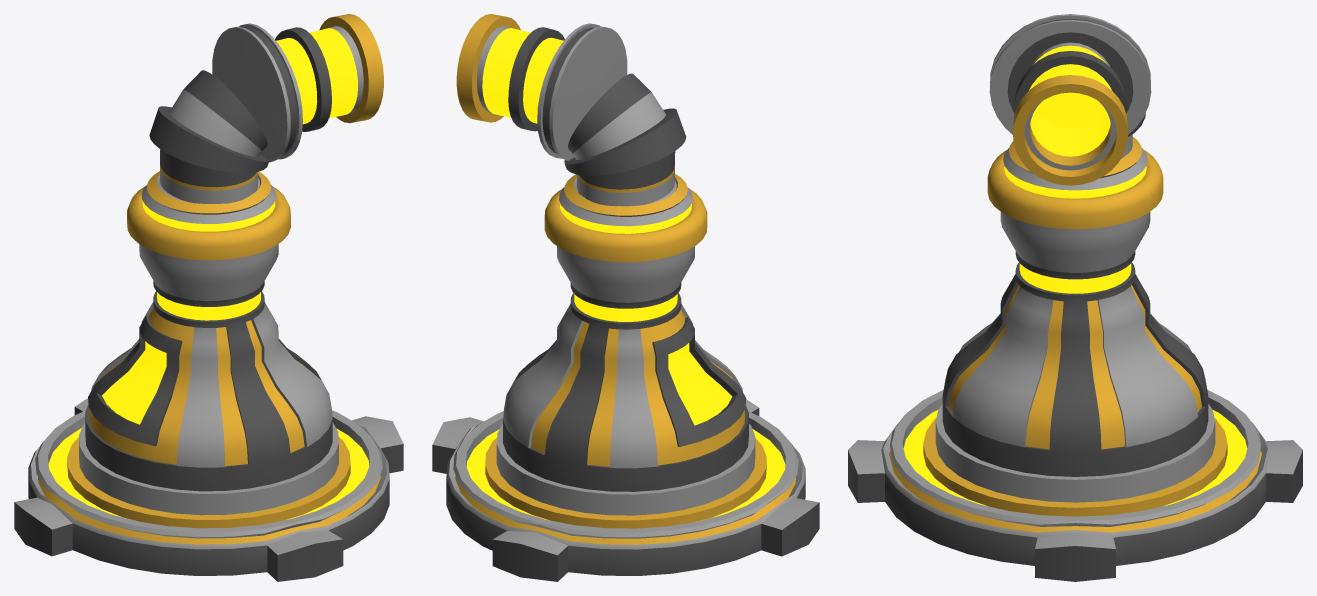
The model's file is Tower.fbx.
3 renders of one model, left to right at view 1: azimuth 30°, elevation 25°; view 2: azimuth 150°, elevation 25°; view 3: azimuth 270°, elevation 25°, orthographic. The views are drawn at different scales.
Visible parts, largest first — view 1: Tower; view 2: Tower; view 3: Tower.
Part boxes in pixels (<box>): Tower: <box>14,14,403,581</box>; Tower: <box>432,14,819,581</box>; Tower: <box>848,14,1302,581</box>.
Size of the model in its own units: 1041 by 1243 by 1041.
